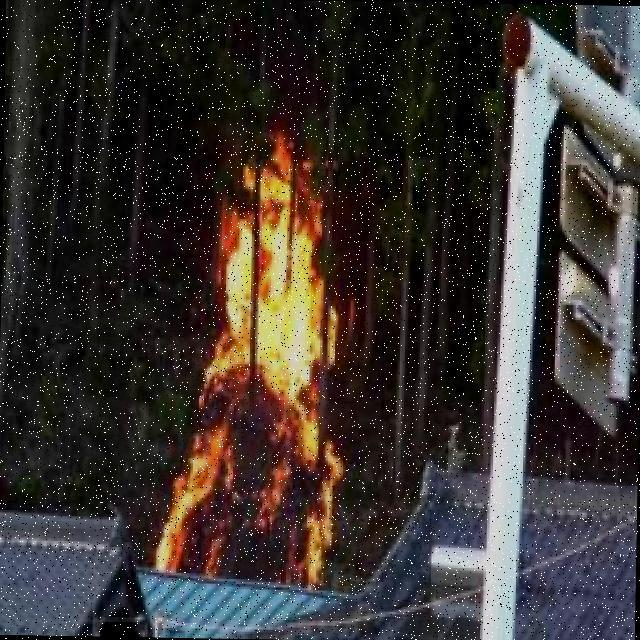Fire: (154, 144, 351, 586)
